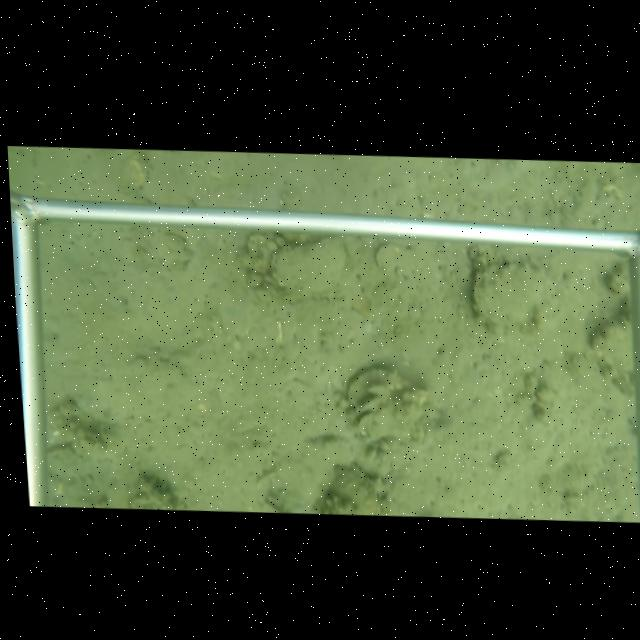Oyster-Indeterminate: (468, 258, 561, 331), (267, 237, 349, 296), (344, 363, 433, 410), (327, 461, 384, 513), (372, 243, 403, 273)
